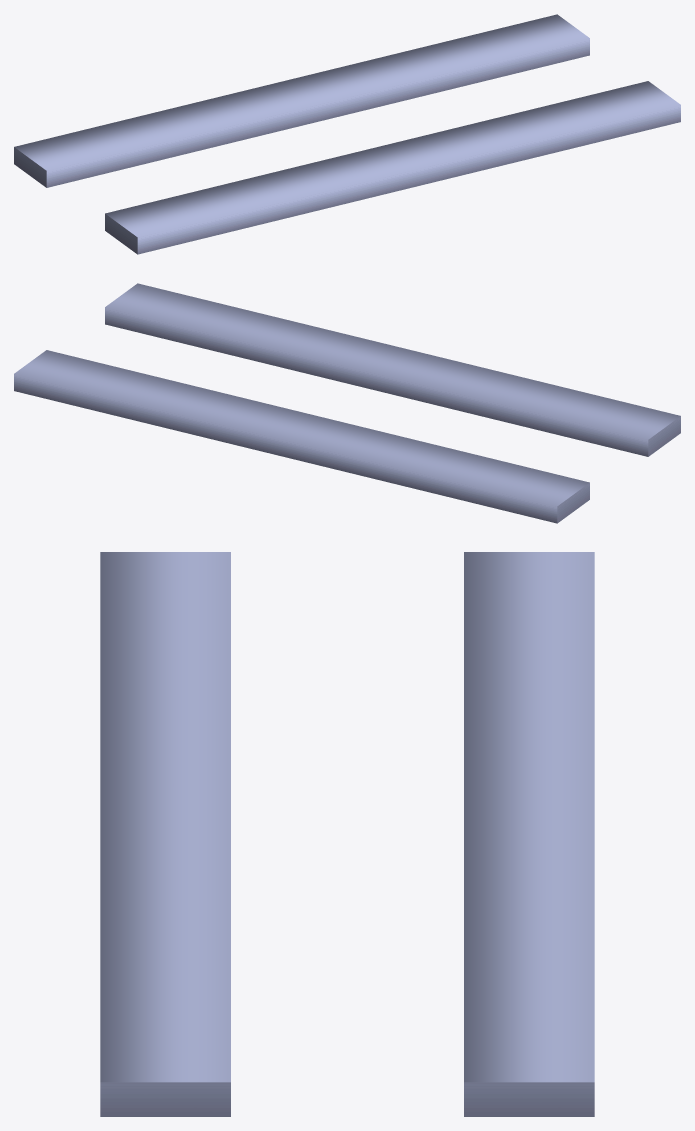
Rendered from trainset-rail-straight.glb.
3 views of the same model, one above another, from view 1: azimuth 30°, elevation 25°; view 2: azimuth 150°, elevation 25°; view 3: azimuth 270°, elevation 25° (orthographic). The views are drawn at different scales.
Visible parts, largest first — view 1: trainset-rail-straight; view 2: trainset-rail-straight; view 3: trainset-rail-straight.
Boxes of the visible parts, x1,y1,x2,y2 form: trainset-rail-straight: (14,14,680,254); trainset-rail-straight: (14,283,680,523); trainset-rail-straight: (100,552,594,1116).
Size of the model in its own units: 0.5 by 0.0151 by 0.197.
Materials: 1 (1 with a texture image).
